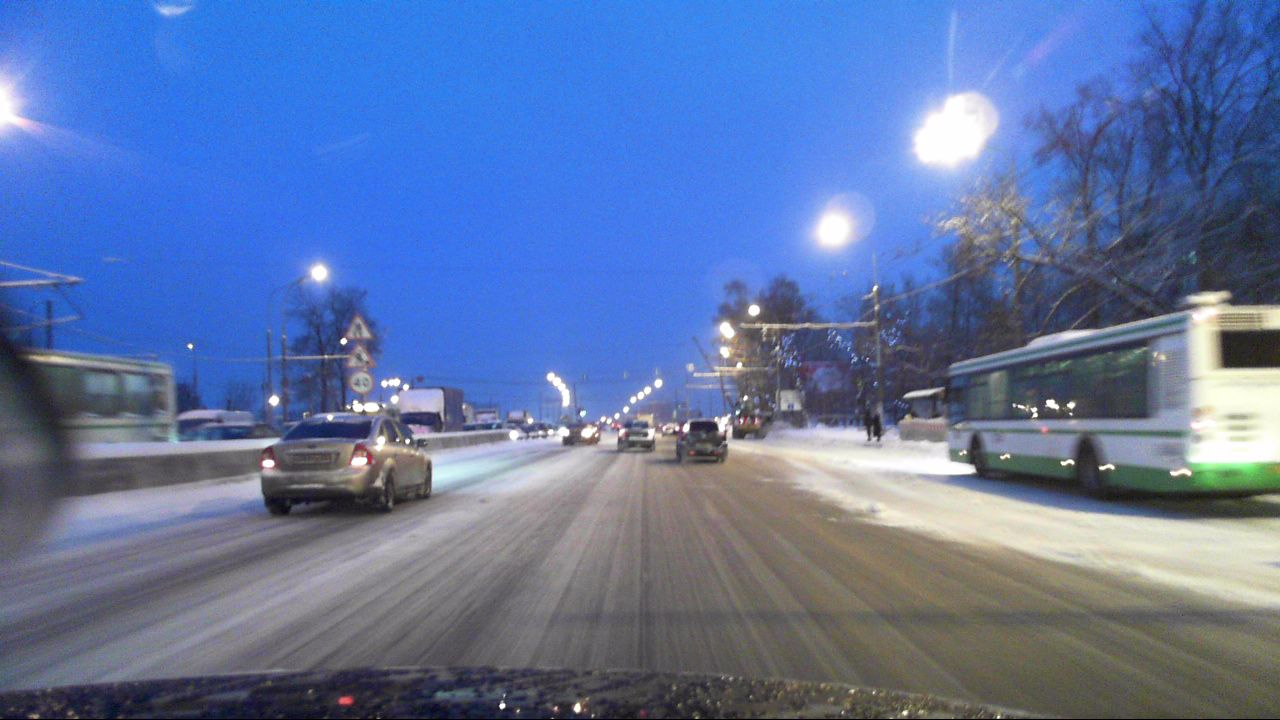speed_warning_40: (348, 369, 374, 393)
